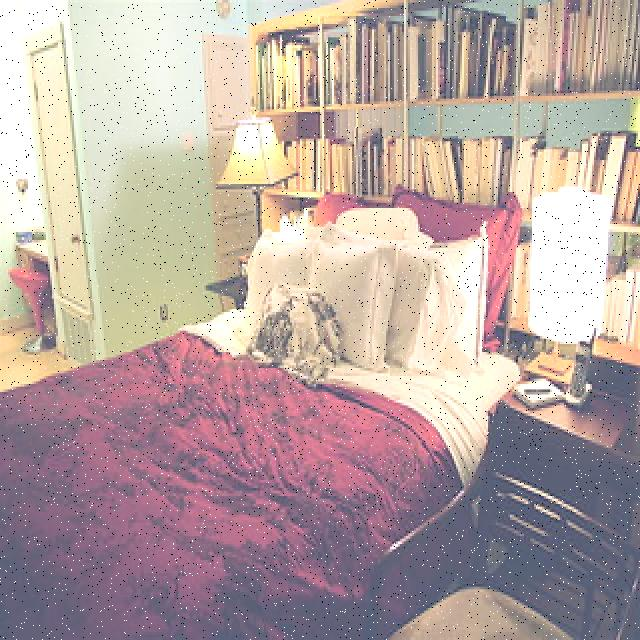bed: (0, 195, 526, 637)
